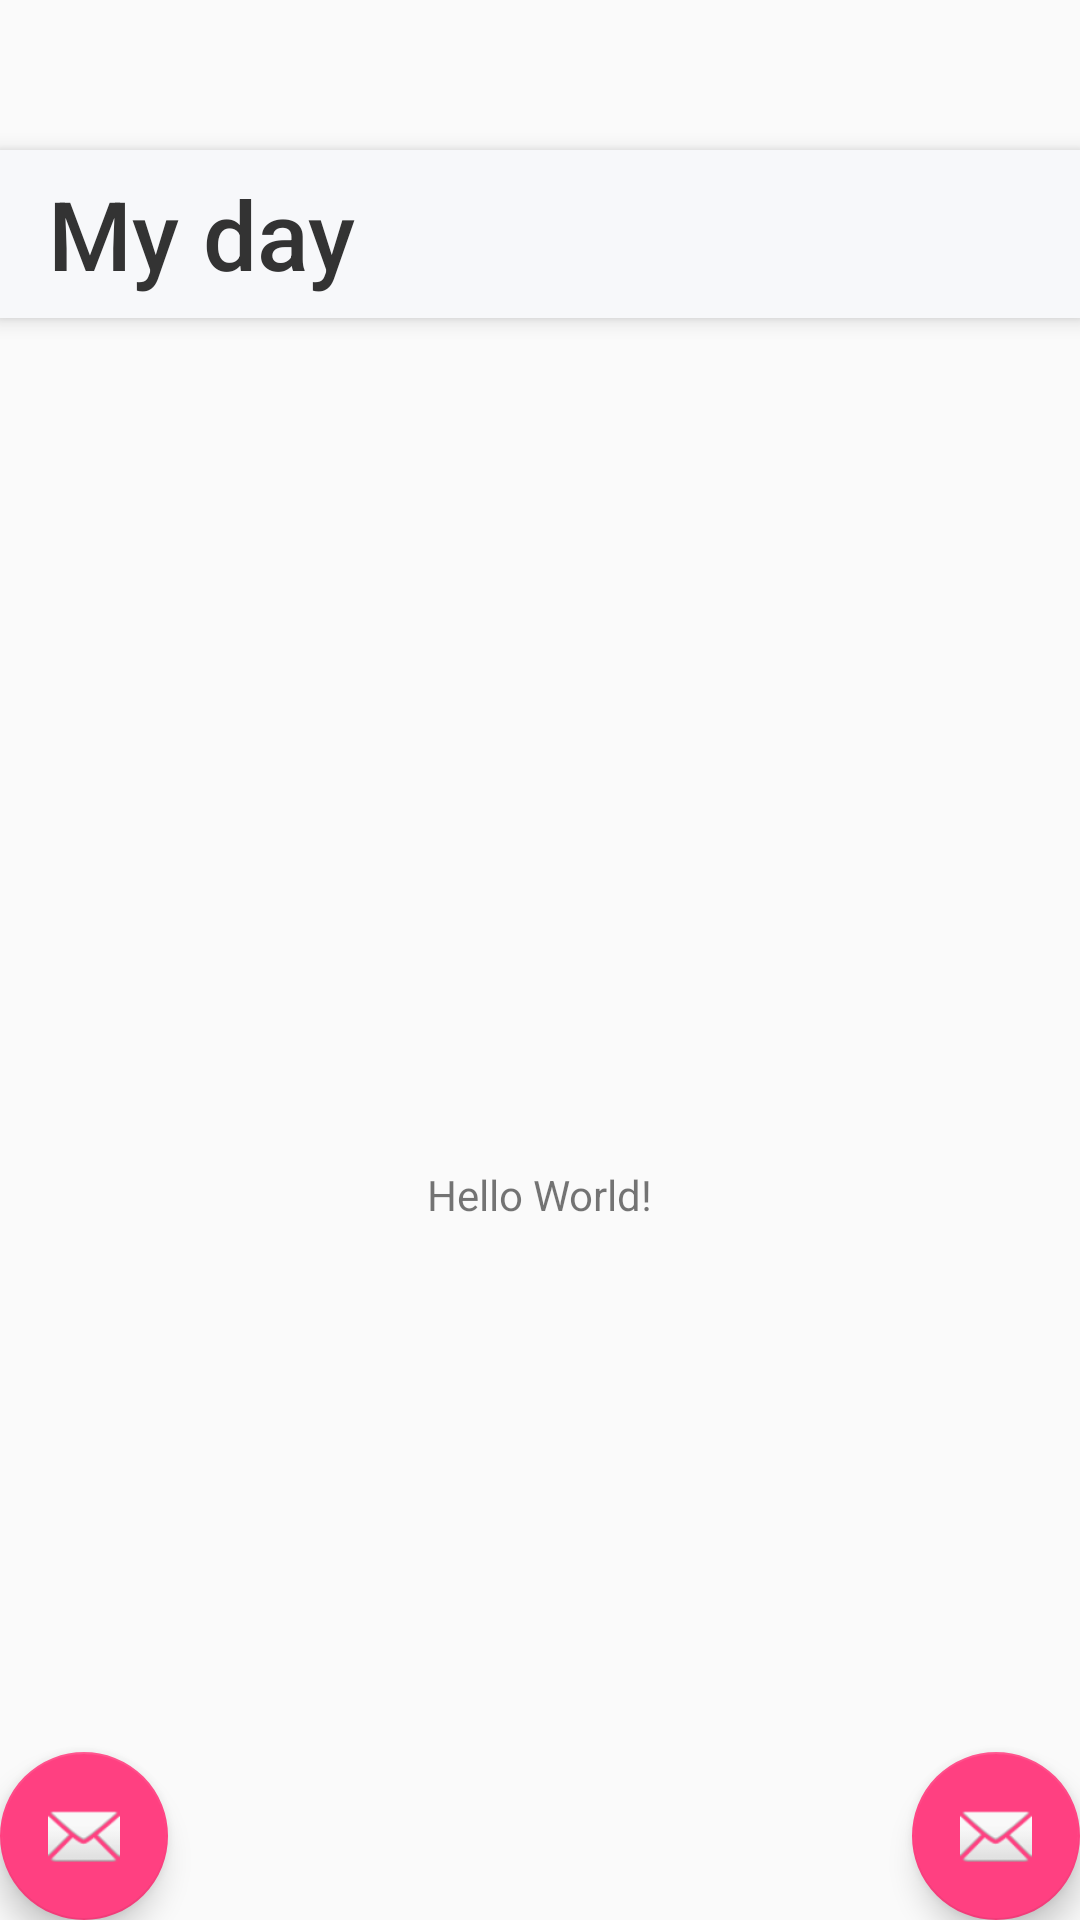

Where icons sit on this 1080x1920 app screen, as (left=x1, top=y1, right=x2, bottom=y2):
email: (left=0, top=1752, right=168, bottom=1920), (left=912, top=1752, right=1080, bottom=1920)
